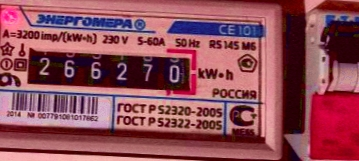0: (168, 61, 182, 82)
2: (37, 54, 53, 75), (115, 59, 130, 80)
6: (63, 56, 77, 77), (90, 58, 104, 79)
7: (141, 60, 154, 80)
screen: (18, 35, 205, 99)
